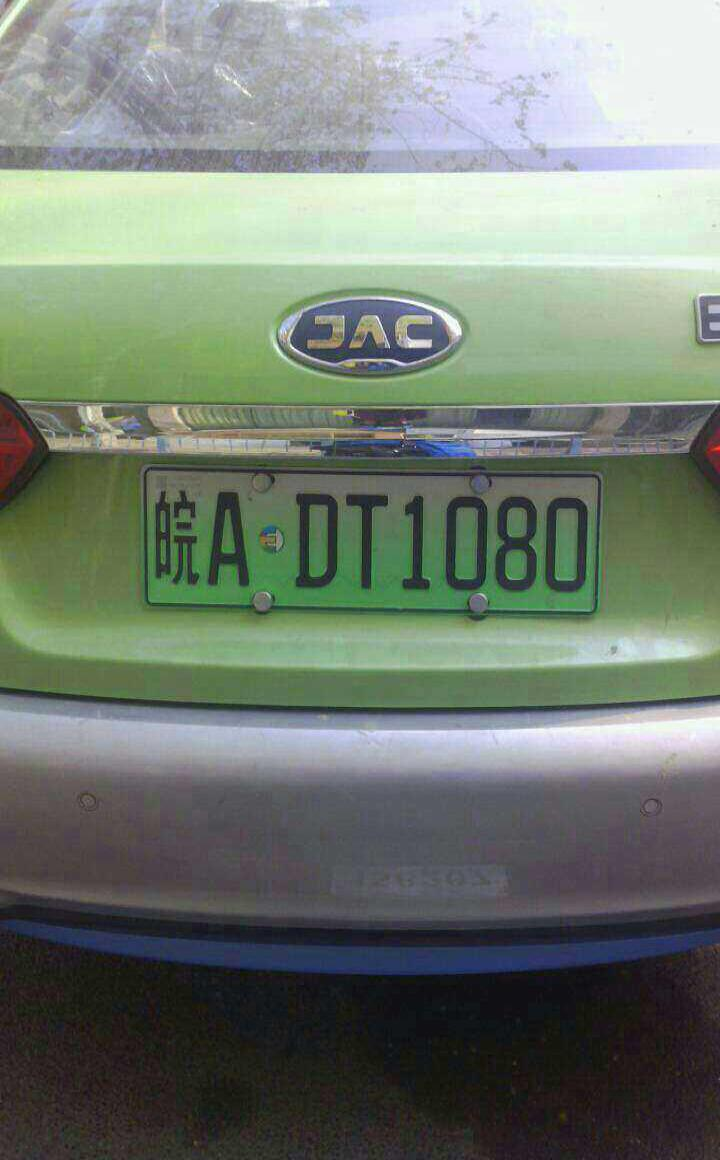car: (139, 458, 615, 622)
